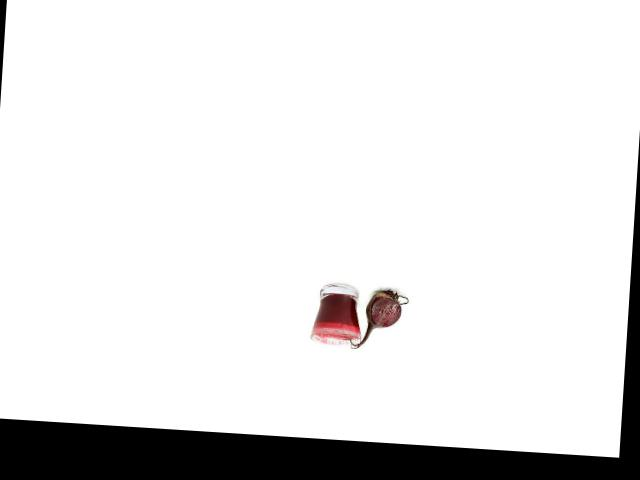beet: (342, 286, 408, 351)
